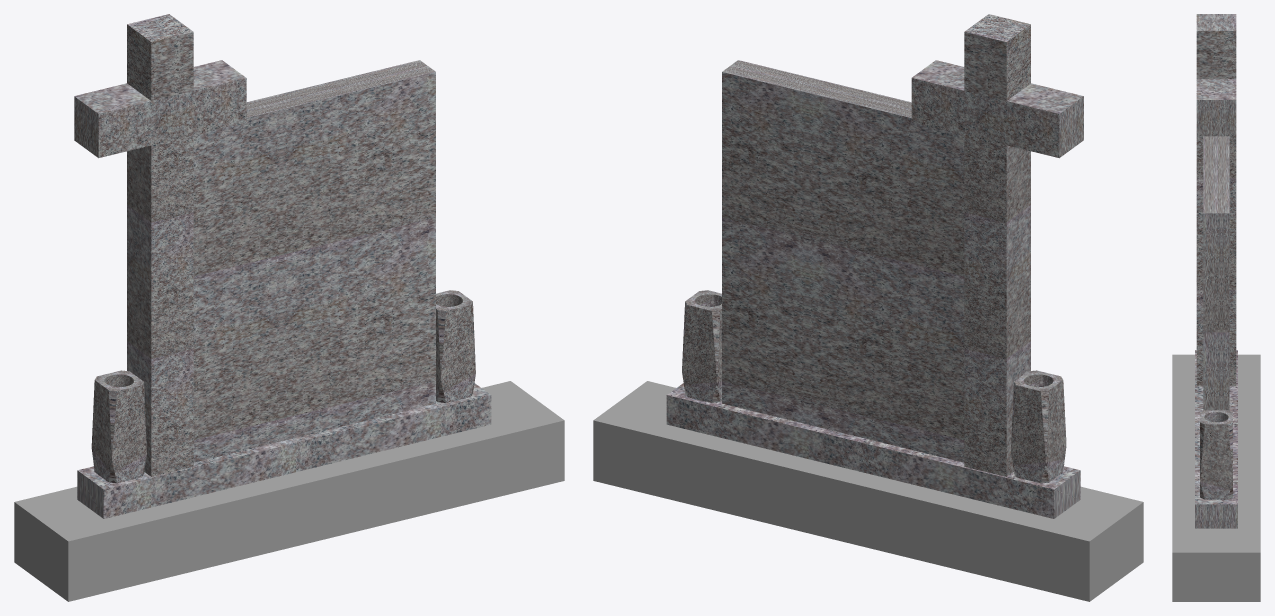
The model's file is monument-51-maroniu.glb.
3 views of the same model, side by side, from view 1: azimuth 30°, elevation 25°; view 2: azimuth 150°, elevation 25°; view 3: azimuth 270°, elevation 25° (orthographic). The views are drawn at different scales.
Parts seen in each view (by area): view 1: Box (×3), Box 3, Box 1, Group, Box 2; view 2: Box (×3), Box 3, Box 1, Group, Box 2; view 3: Box (×3), Group, Box 3, Box 2, Box 1.
Boxes of the visible parts, x1,y1,x2,y2 form: Box (×3): (14,60,564,601); Box 3: (77,383,491,518); Box 1: (74,60,246,158); Group: (91,290,475,483); Box 2: (127,14,193,100); Box (×3): (593,60,1143,601); Box 3: (666,383,1080,518); Box 1: (911,60,1083,158); Group: (682,290,1066,483); Box 2: (964,14,1030,100); Box (×3): (1172,136,1260,601); Group: (1200,410,1232,499); Box 3: (1195,350,1237,528); Box 2: (1196,14,1236,78); Box 1: (1196,79,1236,136).
Bounding box in the file's own units: 141 × 142 × 26.57.
Materials: 8 (7 with a texture image).
